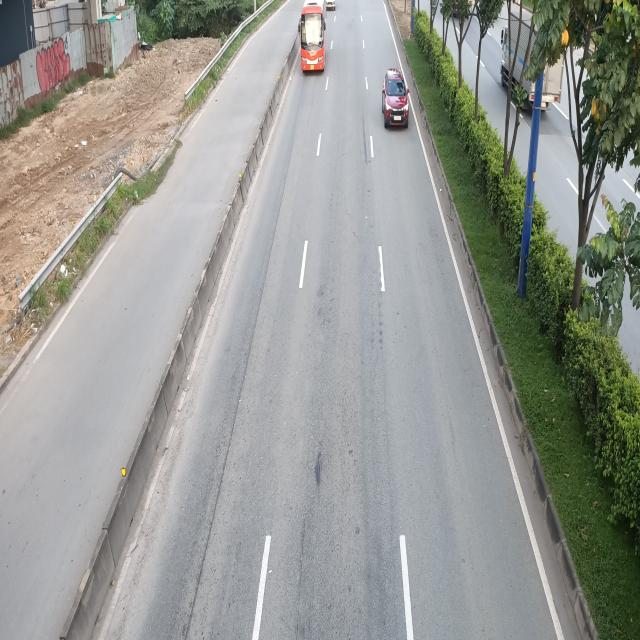car: (382, 69, 410, 129)
coach: (298, 1, 328, 75)
